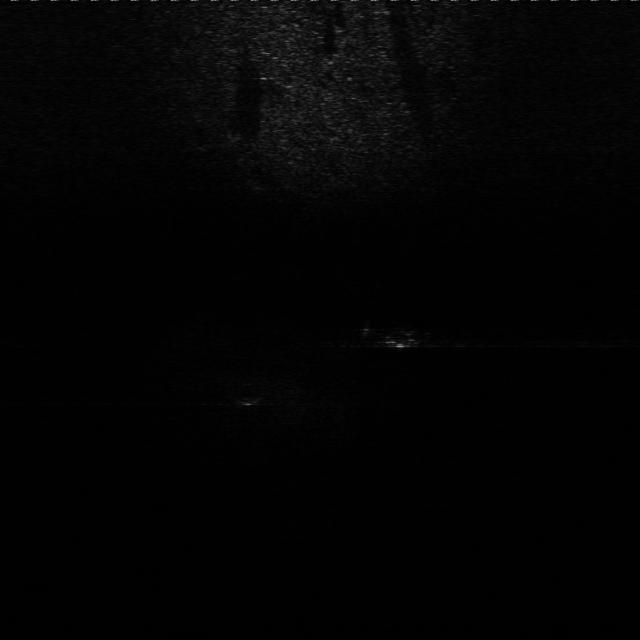ball: (230, 379, 270, 407)
human body: (353, 323, 448, 353)
